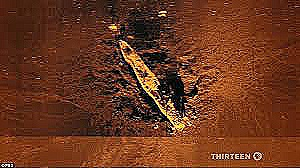ship: (117, 38, 192, 134)
